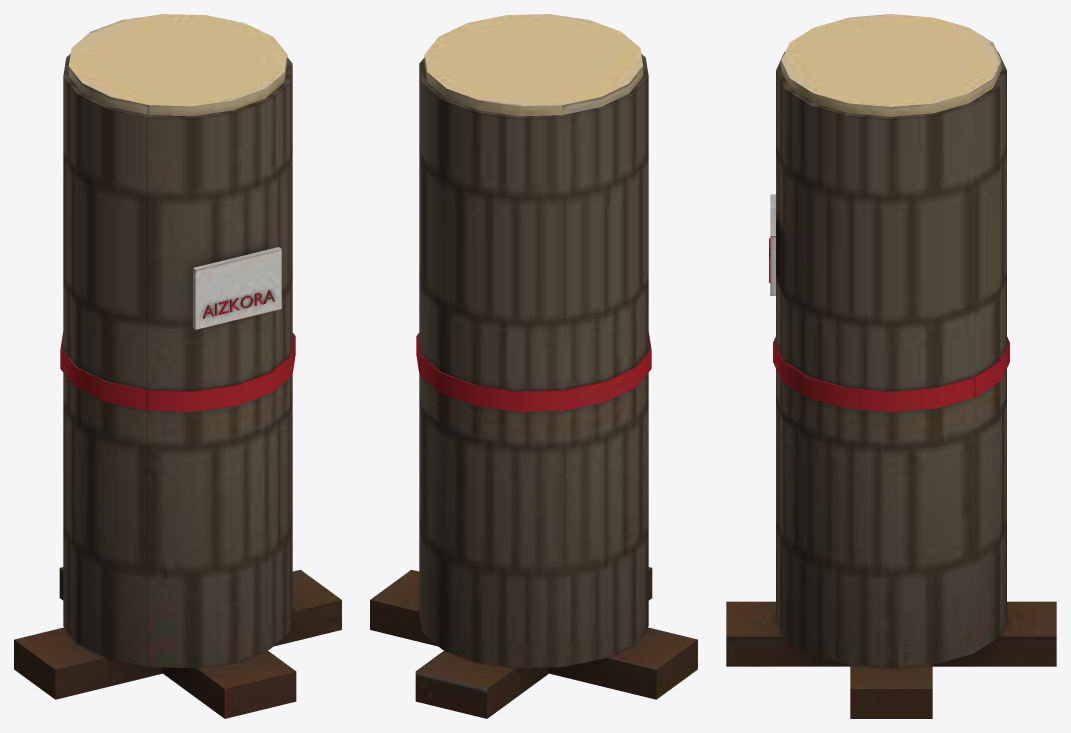
File: tronco_aizkolari.glb
3 renders of one model, left to right at view 1: azimuth 30°, elevation 25°; view 2: azimuth 150°, elevation 25°; view 3: azimuth 270°, elevation 25°, orthographic.
Parts seen in each view (by area): view 1: tronco_aizkolari; view 2: tronco_aizkolari; view 3: tronco_aizkolari.
Boxes of the visible parts, left/top/right/bottom form: tronco_aizkolari: left=14, top=14, right=341, bottom=718; tronco_aizkolari: left=370, top=14, right=697, bottom=718; tronco_aizkolari: left=726, top=14, right=1056, bottom=718.
Bounding box in the file's own units: 1.2 × 2.36 × 1.2.
Materials: 1 (1 with a texture image).
